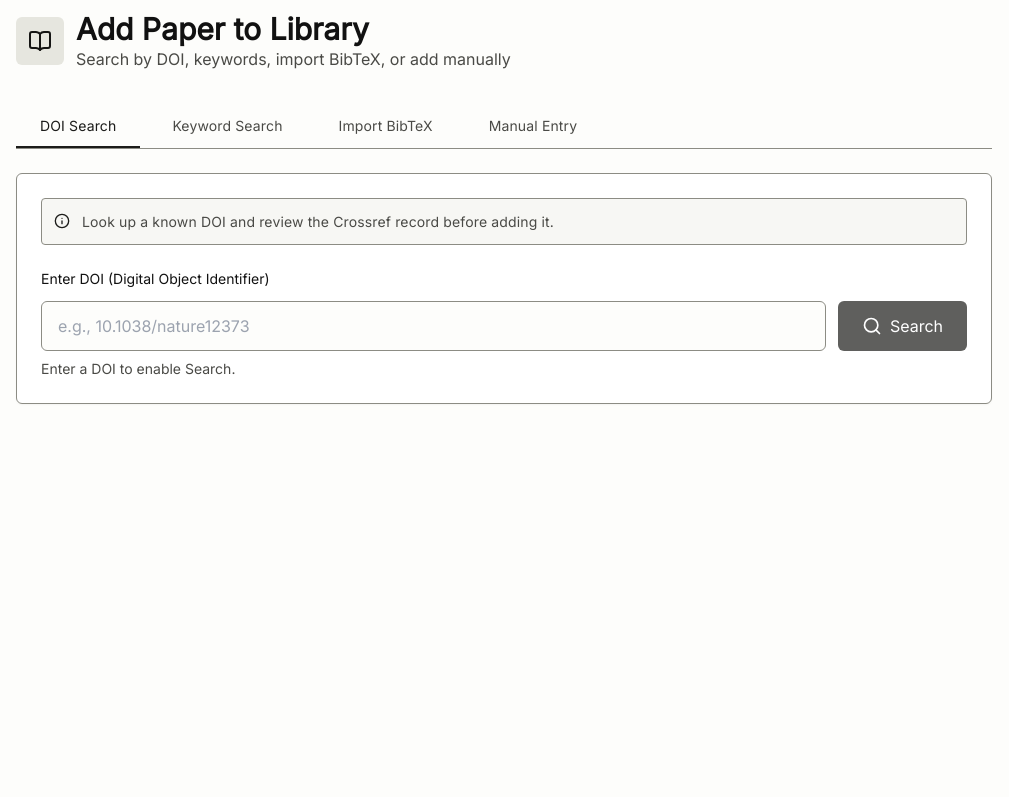
Scenario: AddPaperView tab-reset parity › clicking a tab clears search errors, results, and keeps text inputs
This screenshot has width=1009, height=797.
In the field with placeholder "e.g., 10.1038/nature12373": (433, 326) [41,301,826,351], type "10.1234/wrapper"
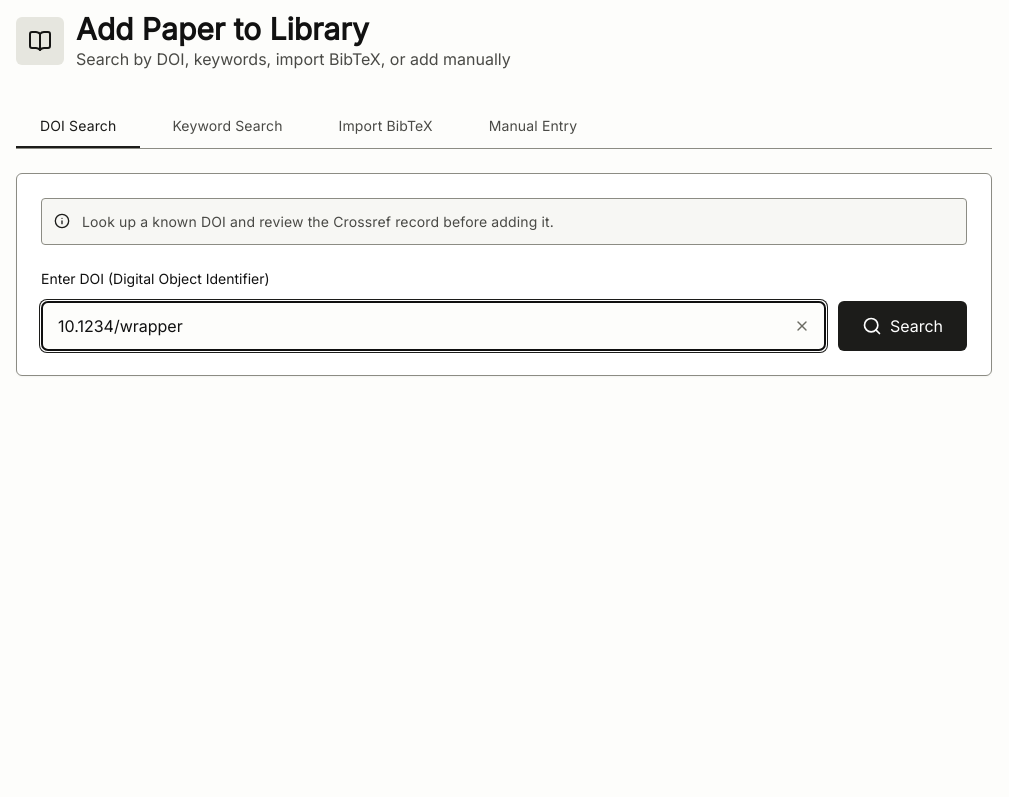
Click the button "Search": (902, 326) [838,301,967,351]
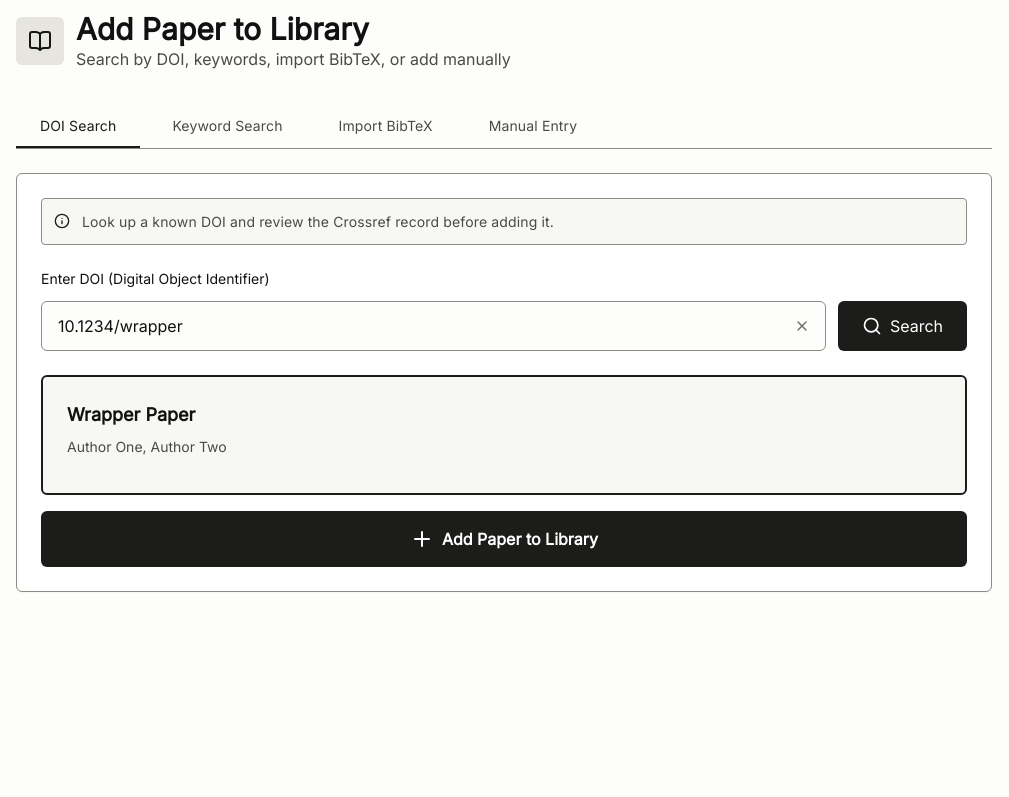
Expected: the button "Add Paper to Library" is shown, [41,511,967,567]
Click the tab "Manual Entry": (533, 126) [465,103,601,148]
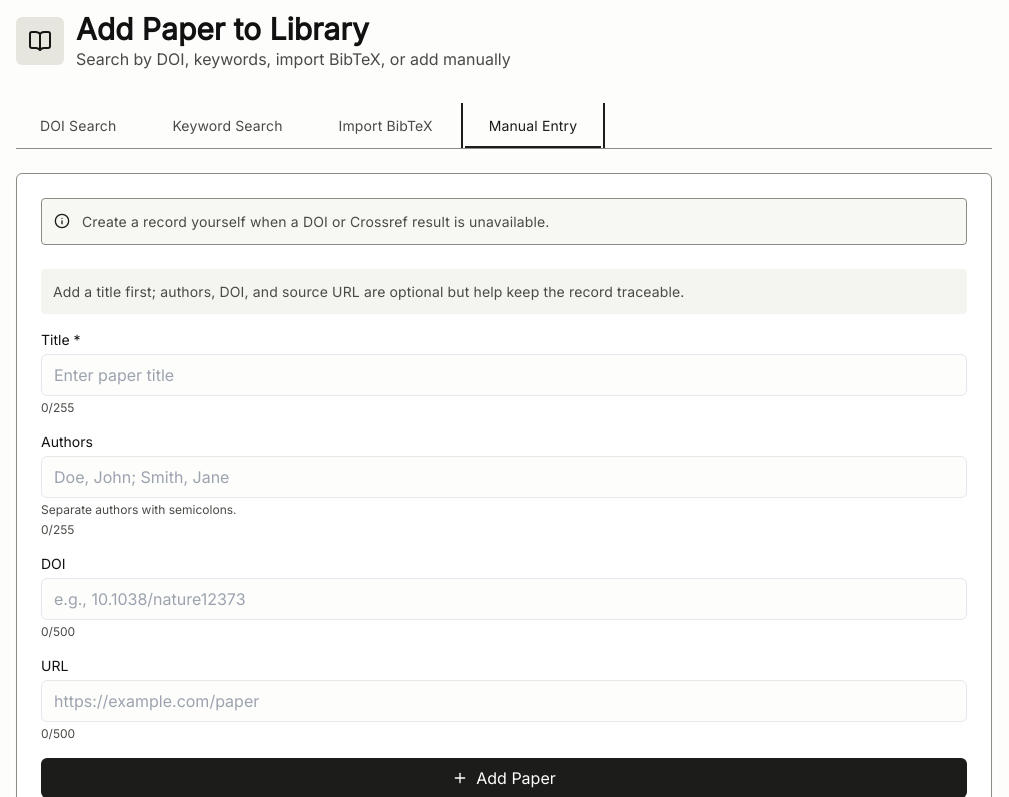
Click the tab "DOI Search": (78, 126) [16,103,140,148]
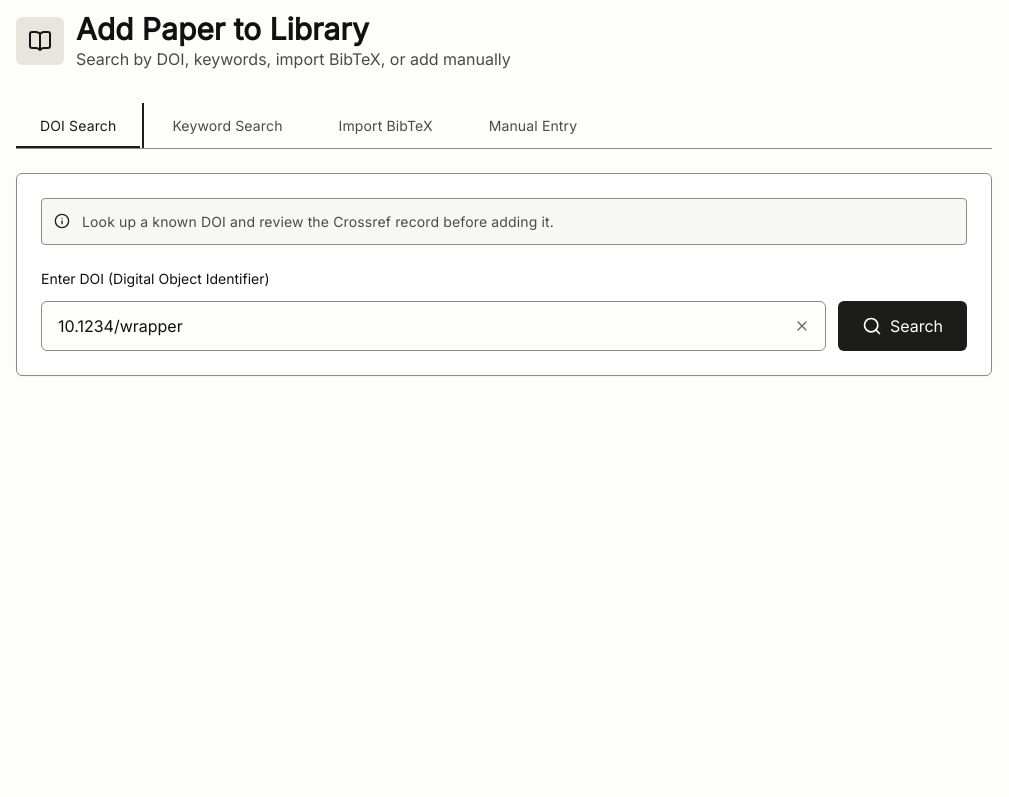
Expected: the field with placeholder "e.g., 10.1038/nature12373" holds "10.1234/wrapper", [41,301,826,351]
